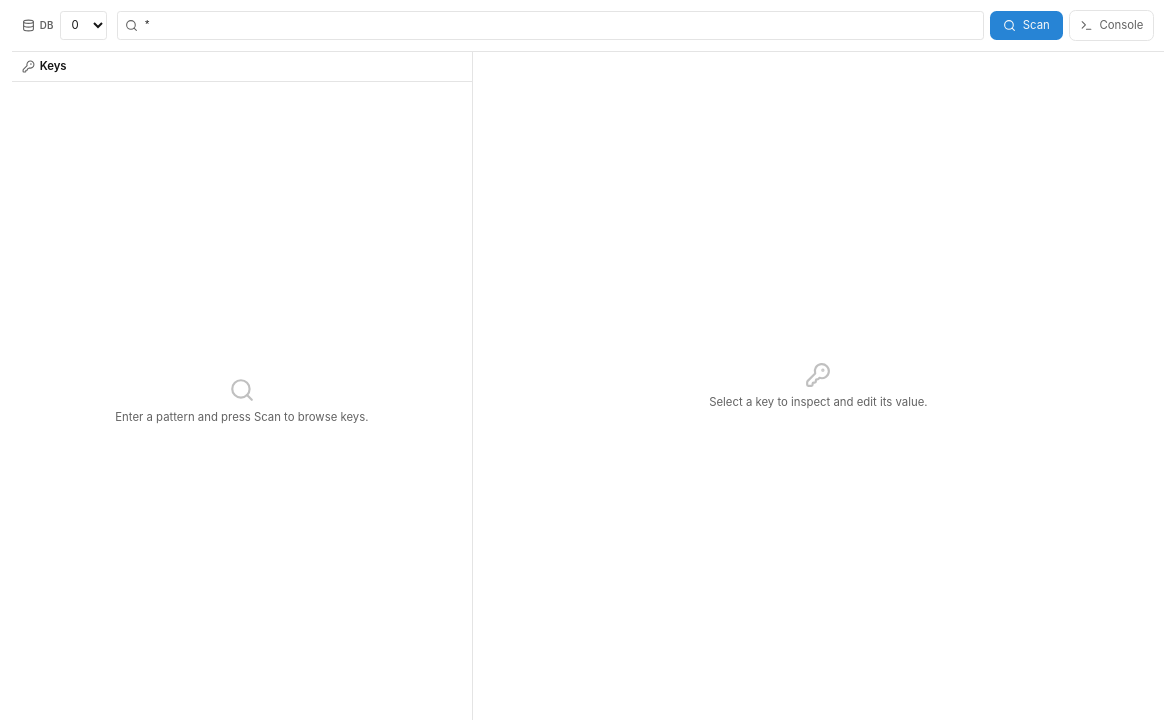
RedisKeyBrowser › scans with the selected db, pattern, cursor and count, then renders keys
This screenshot has width=1164, height=720.
Step 1. Replace the text in the field with placeholder "key pattern, e.g. user:*" with "user:*" → (550, 25), box [117,11,984,40]
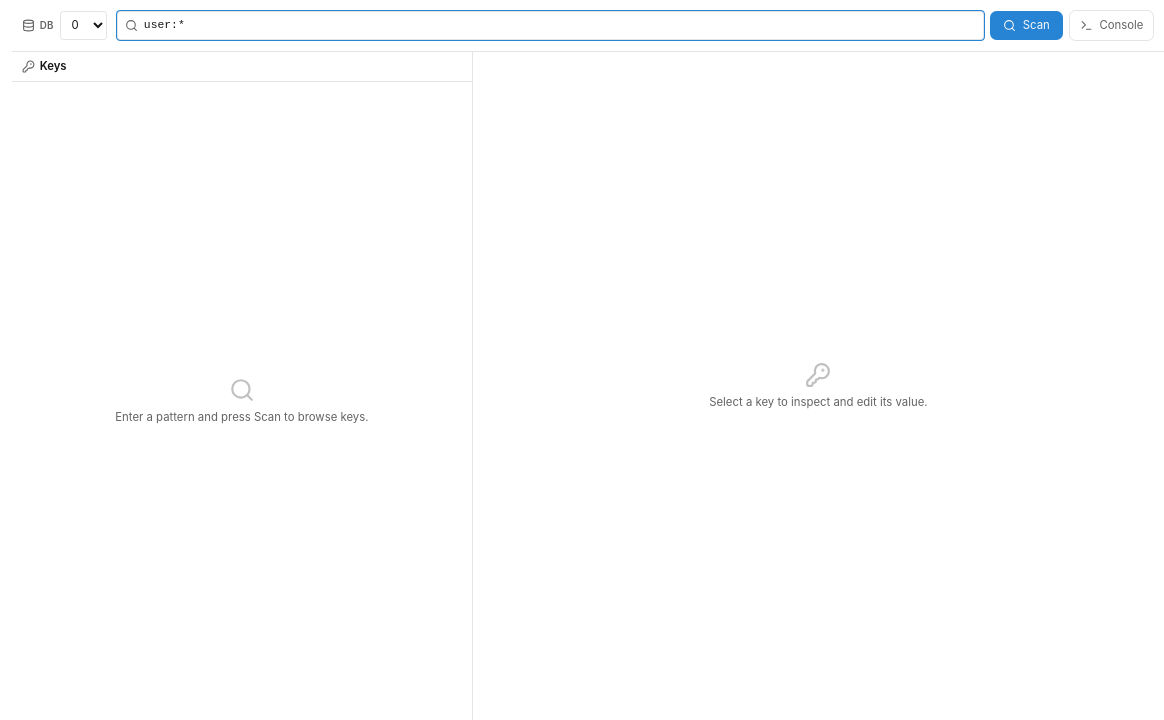
Step 2. Click the button "Scan" → (1027, 25), box [990,11,1063,40]
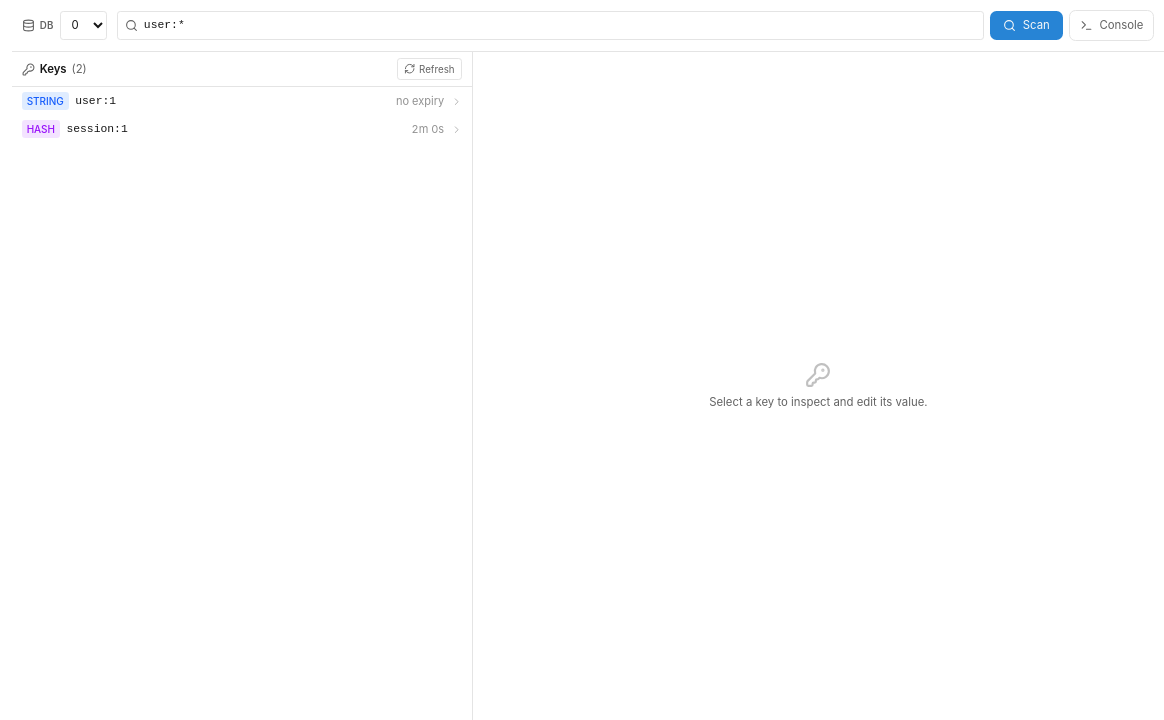
Check: the text "user:1" is shown, box [75,95,116,107]
Check: the text "session:1" is shown, box [66,123,128,135]
